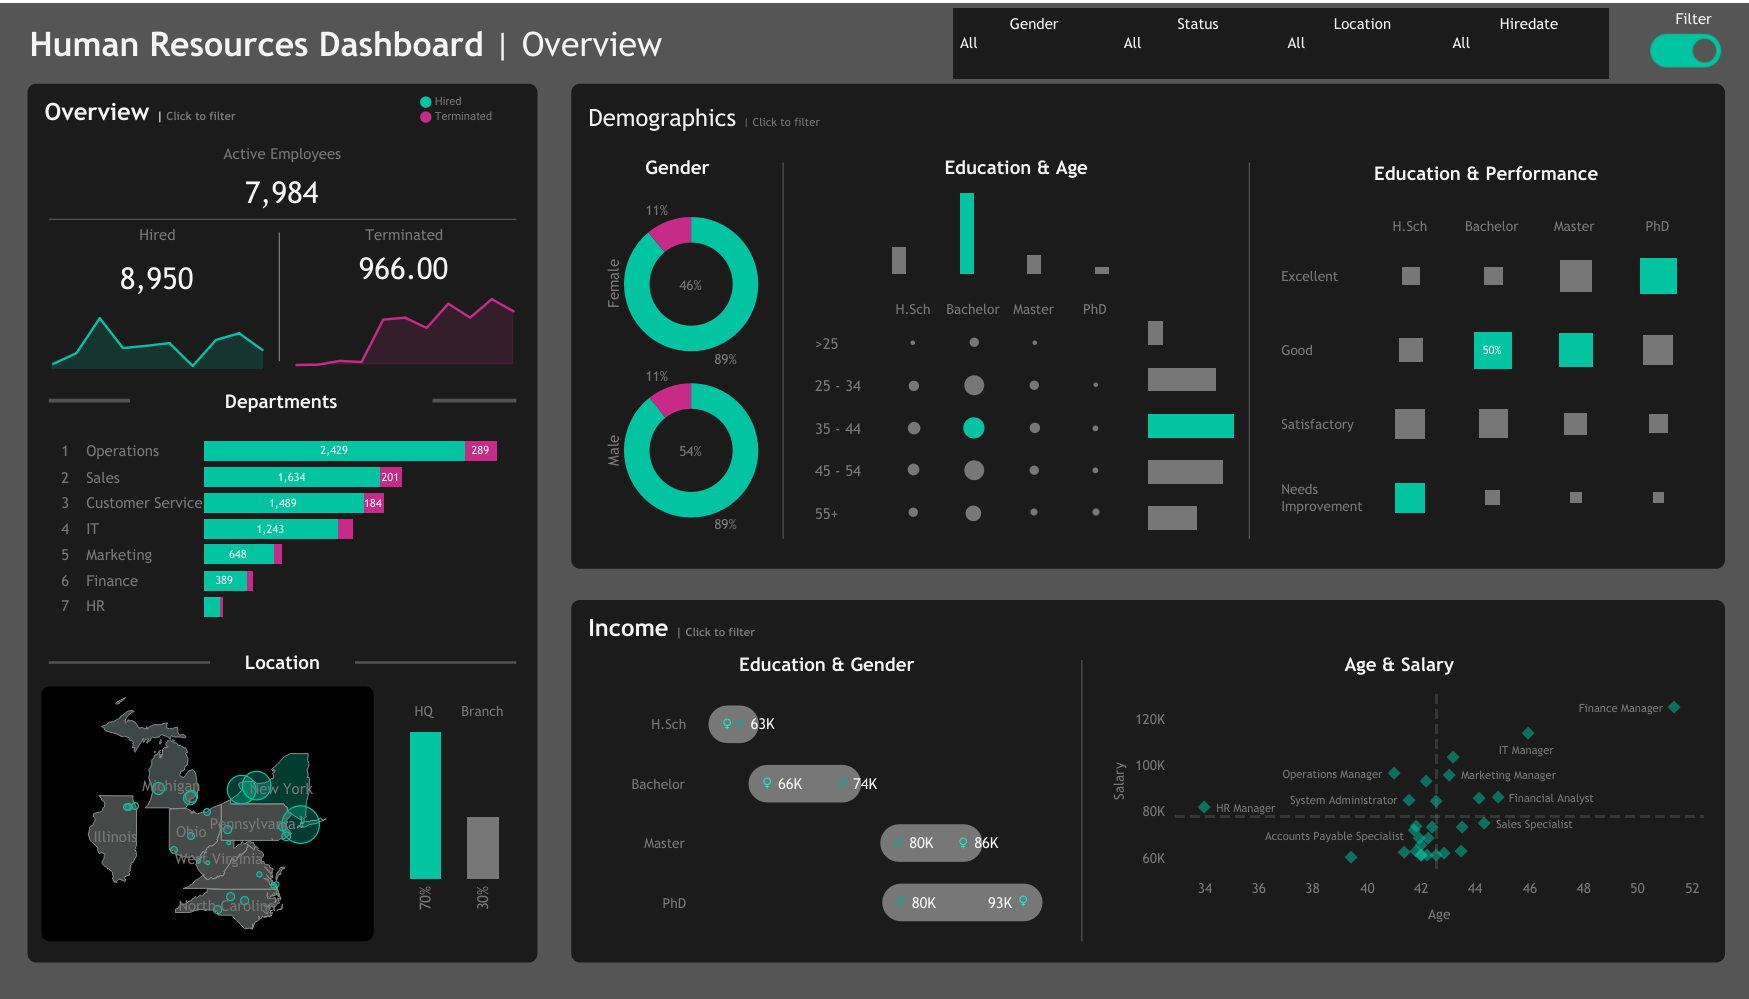

Layout of this report page (visuals, bound fields, positions):
{"tool":"tableau","page":{"name":"Dashboard","canvas":[1400,800],"ordinal":0},"visuals":[{"type":"text","box":[0,2,873,65]},{"type":"blank","box":[1291,2,89,65]},{"type":"filter","title":"Gender Vs Educations Level","param":"[federated.1cfxy5h1x6387a1edbirn1xo8dpb].[none:Gender:nk]","box":[877,6,102.5,57]},{"type":"filter","title":"Gender Vs Educations Level","param":"[federated.1cfxy5h1x6387a1edbirn1xo8dpb].[none:Calculation_0255142771617802:nk]","box":[979.5,6,102.5,57]},{"type":"filter","title":"Gender Vs Educations Level","param":"[federated.1cfxy5h1x6387a1edbirn1xo8dpb].[none:Calculation_0255142477225989:nk]","box":[1082,6,102.5,57]},{"type":"filter","title":"Gender Vs Educations Level","param":"[federated.1cfxy5h1x6387a1edbirn1xo8dpb].[yr:Hiredate:ok]","box":[1184.5,6,102.5,57]},{"type":"text","box":[1312,7,86,14]},{"type":"dashboard-object","box":[1320,23,58,35]},{"type":"text","box":[333,70,104,34]},{"type":"text","box":[29,74,394,34]},{"type":"text","box":[464,74,909,41]},{"type":"text","box":[29,108,394,32]},{"type":"text","box":[464,120,157,29]},{"type":"blank","box":[626,120,1,321]},{"type":"text","box":[632,120,362.5,29]},{"type":"blank","box":[999.5,120,1,321]},{"type":"text","box":[1005.5,120,367.5,37]},{"type":"worksheet","title":"BAN Active","mark":"Automatic","box":[29,140,394,41]},{"type":"worksheet","title":"Gender","mark":"Pie","rows":["Gender"],"cols":["Calculation_0255142482935815","Calculation_0255142482935815"],"box":[464,149,157,292]},{"type":"worksheet","title":"Education Levels","mark":"Bar","rows":["Calculation_0255142445101056"],"cols":["Education Level"],"box":[632,149,362.5,74]},{"type":"worksheet","title":"Education Vs Performance","mark":"Square","rows":["Performance Rating"],"cols":["Education Level"],"box":[1005.5,157,367.5,284]},{"type":"blank","box":[29,181,394,1]},{"type":"text","box":[29,182,194,26]},{"type":"blank","box":[223,182,1,123]},{"type":"text","box":[224,182,199,26]},{"type":"worksheet","title":"BAN Hired","mark":"Automatic","box":[29,208,194,45]},{"type":"worksheet","title":"BAN Terminated","mark":"Automatic","box":[224,208,199,32]},{"type":"worksheet","title":"Age Vs Education","mark":"Circle","rows":["Calculation_0255142487330825"],"cols":["Education Level"],"box":[632,223,282.5,218]},{"type":"worksheet","title":"Age Groups","mark":"Bar","rows":["Calculation_0255142487330825"],"cols":["Calculation_0255142445101056"],"box":[914.5,223,80,218]},{"type":"worksheet","title":"Terminated By Year","mark":"Line","rows":["Calculation_0255142445572097","Calculation_0255142445572097"],"cols":["Termdate"],"box":[224,240,199,65]},{"type":"worksheet","title":"Hired By Year","mark":"Line","rows":["Calculation_0255142445101056","Calculation_0255142445101056"],"cols":["Hiredate"],"box":[29,253,194,52]},{"type":"blank","box":[39,310,65,32]},{"type":"text","box":[104,310,242,32]},{"type":"blank","box":[346,310,67,32]},{"type":"worksheet","title":"Departmens","mark":"Bar","rows":["Calculation_0255142474878980","Department"],"cols":["Calculation_0255142445101056"],"box":[29,342,394,173]},{"type":"text","box":[464,487,909,32]},{"type":"text","box":[464,519,396,29]},{"type":"blank","box":[865,519,1,244]},{"type":"text","box":[866,519,507,29]},{"type":"blank","box":[39,520,127.3,31]},{"type":"text","box":[166.3,520,119.3,31]},{"type":"blank","box":[285.6,520,127.3,31]},{"type":"worksheet","title":"Gender Vs Educations Level","mark":"Square","rows":["Education Level"],"cols":["Salary","Salary"],"box":[464,548,396,210]},{"type":"worksheet","title":"Age Vs Salary","mark":"Shape","rows":["Salary"],"cols":["Calculation_0255142486212616"],"box":[866,548,507,210]},{"type":"worksheet","title":"Map States","mark":"Automatic","box":[29,551,274,212]},{"type":"worksheet","title":"Locations","mark":"Bar","rows":["Calculation_0255142445101056"],"cols":["Calculation_0255142477225989","Calculation1"],"box":[303,551,120,212]}]}

Visuals, with their boxes in screenshot pixels (x1, y1, x2, y2), scaled from the page's 1400x800 canvas onto the 1749x999 screenshot:
text: 0:2:1091:84
blank: 1613:2:1724:84
"Gender Vs Educations Level" filter: 1096:7:1224:79
"Gender Vs Educations Level" filter: 1224:7:1352:79
"Gender Vs Educations Level" filter: 1352:7:1480:79
"Gender Vs Educations Level" filter: 1480:7:1608:79
text: 1639:9:1747:26
dashboard-object: 1649:29:1722:72
text: 416:87:546:130
text: 36:92:528:135
text: 580:92:1715:144
text: 36:135:528:175
text: 580:150:776:186
blank: 782:150:783:551
text: 790:150:1242:186
blank: 1249:150:1250:551
text: 1256:150:1715:196
"BAN Active" worksheet: 36:175:528:226
"Gender" worksheet (Pie marks): 580:186:776:551
"Education Levels" worksheet (Bar marks): 790:186:1242:278
"Education Vs Performance" worksheet (Square marks): 1256:196:1715:551
blank: 36:226:528:227
text: 36:227:279:260
blank: 279:227:280:381
text: 280:227:528:260
"BAN Hired" worksheet: 36:260:279:316
"BAN Terminated" worksheet: 280:260:528:300
"Age Vs Education" worksheet (Circle marks): 790:278:1142:551
"Age Groups" worksheet (Bar marks): 1142:278:1242:551
"Terminated By Year" worksheet (Line marks): 280:300:528:381
"Hired By Year" worksheet (Line marks): 36:316:279:381
blank: 49:387:130:427
text: 130:387:432:427
blank: 432:387:516:427
"Departmens" worksheet (Bar marks): 36:427:528:643
text: 580:608:1715:648
text: 580:648:1074:684
blank: 1081:648:1082:953
text: 1082:648:1715:684
blank: 49:649:208:688
text: 208:649:357:688
blank: 357:649:516:688
"Gender Vs Educations Level" worksheet (Square marks): 580:684:1074:947
"Age Vs Salary" worksheet (Shape marks): 1082:684:1715:947
"Map States" worksheet: 36:688:379:953
"Locations" worksheet (Bar marks): 379:688:528:953
